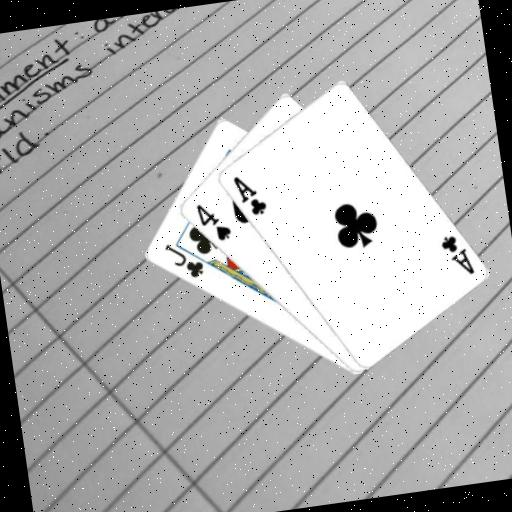4S: (192, 197, 234, 246)
AC: (229, 170, 269, 220), (437, 230, 477, 280)
JC: (161, 237, 207, 284)
